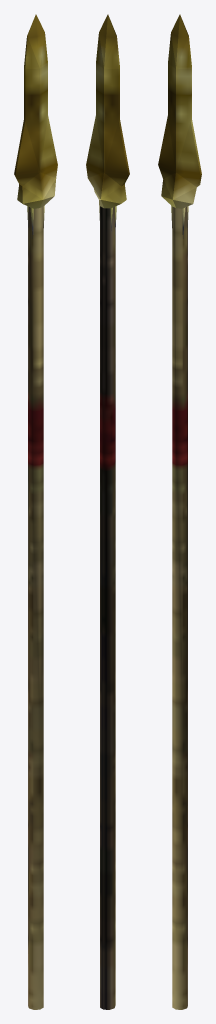
Rendered from yayoi_spear_2.dae.
3 renders of one model, left to right at view 1: azimuth 30°, elevation 25°; view 2: azimuth 150°, elevation 25°; view 3: azimuth 330°, elevation 25°, orthographic.
Visible parts, largest first — view 1: spear_p_2; view 2: spear_p_2; view 3: spear_p_2.
Boxes of the visible parts, <box> form: spear_p_2: <box>14,14,57,1009</box>; spear_p_2: <box>86,14,129,1009</box>; spear_p_2: <box>158,14,201,1009</box>.
Size of the model in its own units: 0.2225 by 0.1308 by 4.97.
1 material, 1 textured.
